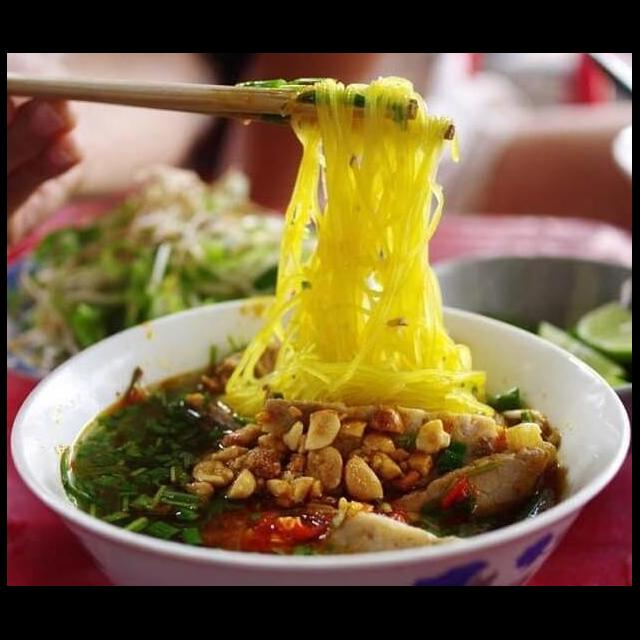mi: (208, 70, 508, 428)
thit heo: (256, 394, 512, 492), (376, 444, 556, 530)
